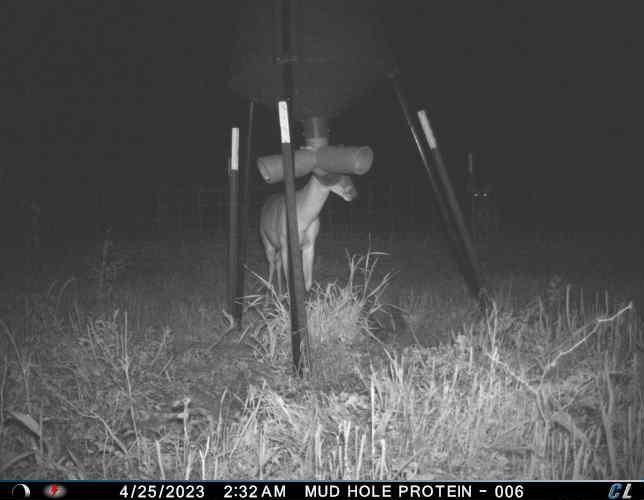Deer: (256, 138, 361, 309), (466, 181, 503, 249)
